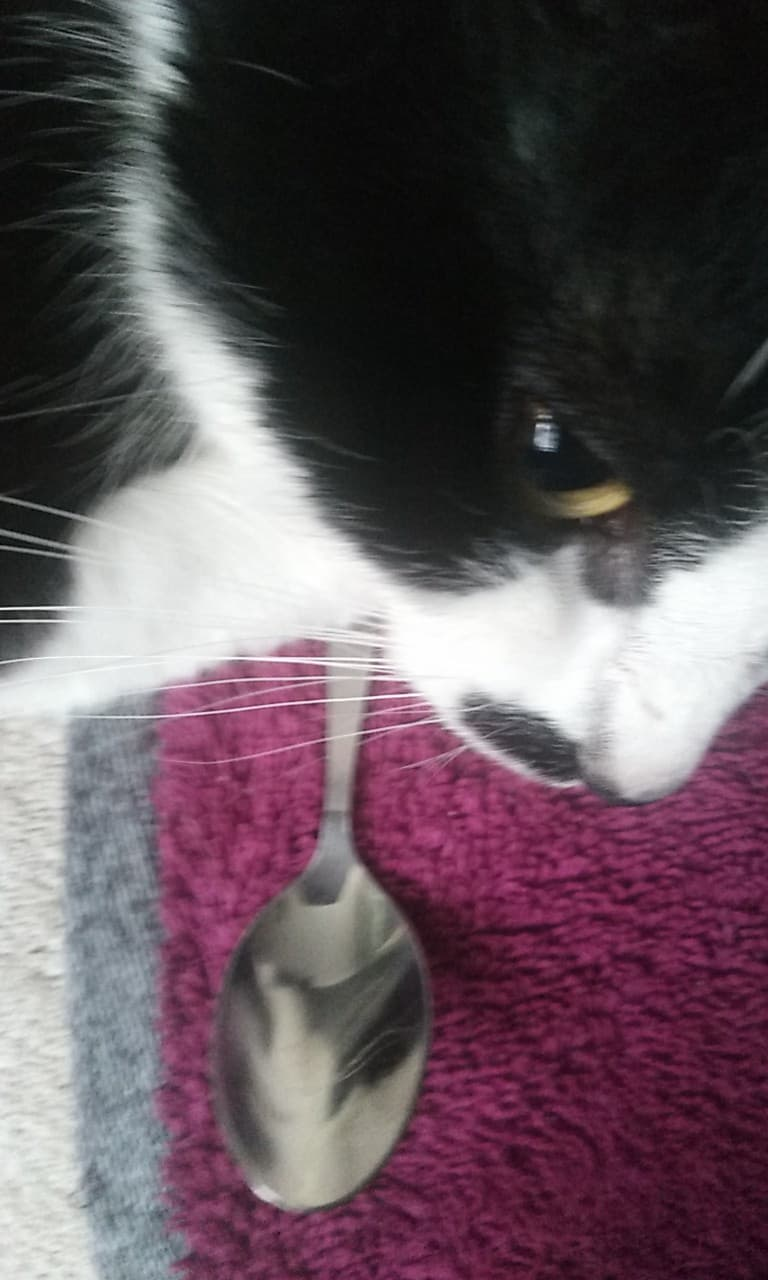Lyzka: (201, 857, 435, 1219)
